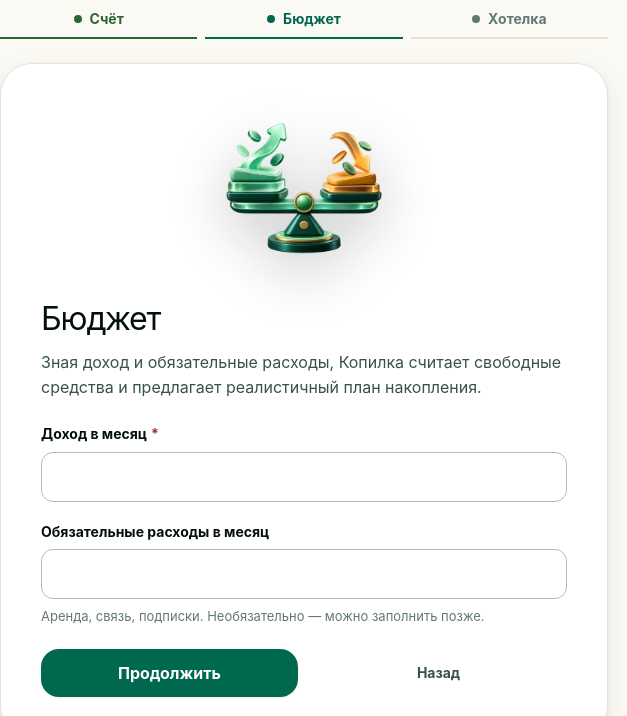
Test: OnboardingWizard › rejects a budget where expenses exceed income locally
In the field labelled "Доход в месяц*": (304, 477) [41,452,567,502], type "100"
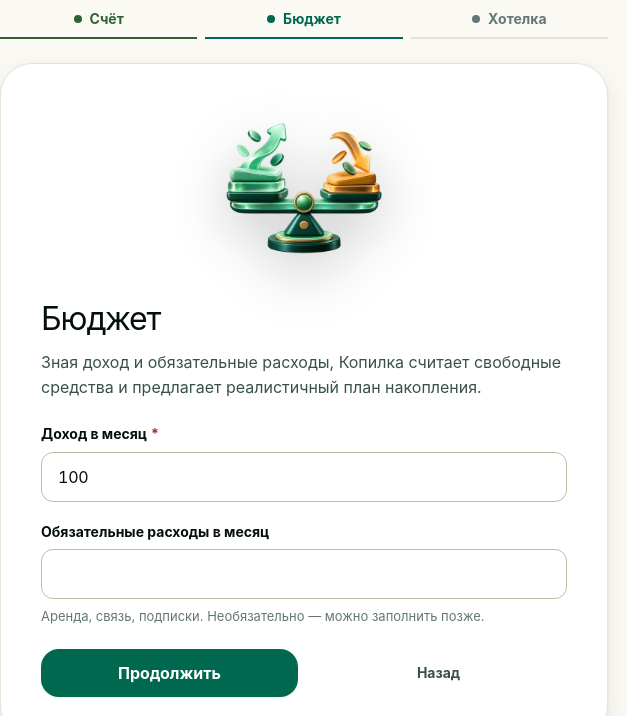
In the field labelled "Обязательные расходы в месяц": (304, 574) [41,549,567,599], type "200"
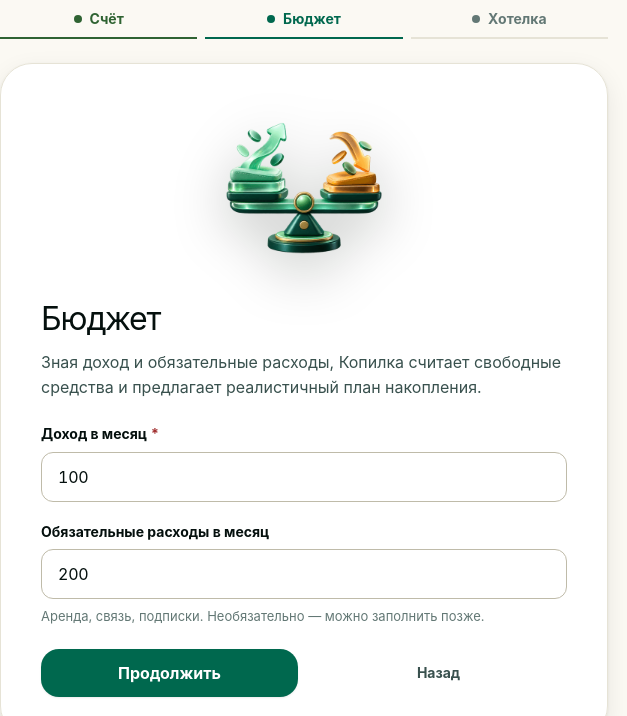
Click the button "Продолжить": (170, 673) [41,649,298,697]
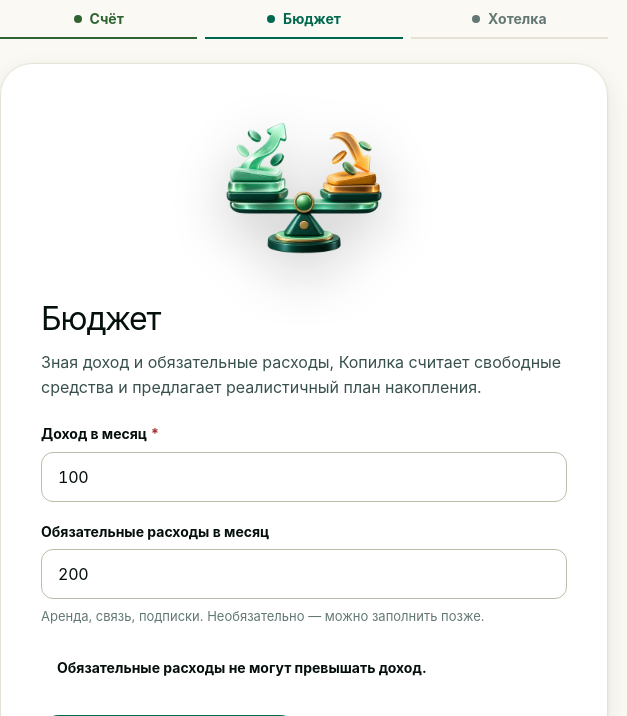
Expected: the text "Обязательные расходы не могут превышать доход." is shown, [57,659,427,676]
